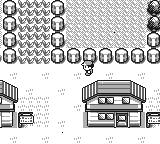captura: (17, 0, 51, 64)
leer: (18, 112, 33, 127), (146, 112, 160, 128)
main: (81, 60, 94, 76)
no-caminable: (51, 0, 160, 63), (82, 79, 146, 127), (1, 1, 17, 63), (1, 80, 18, 127), (147, 0, 160, 32)
puerta: (116, 113, 128, 127)
